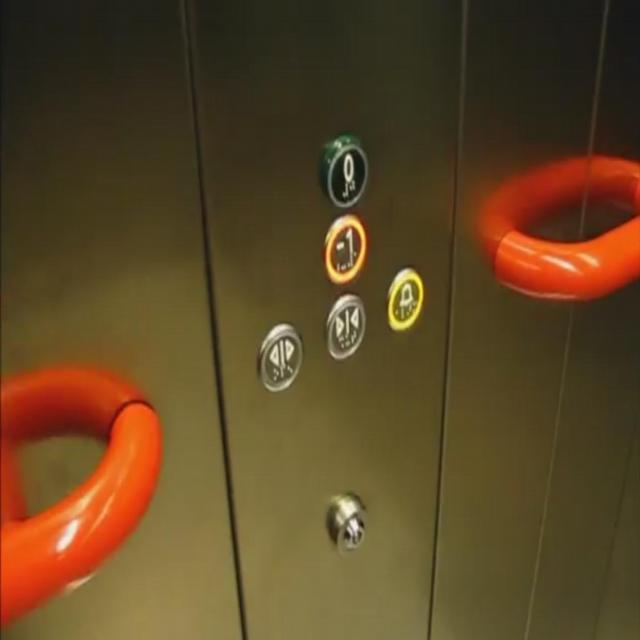-1: (322, 213, 367, 281)
0: (320, 133, 370, 207)
alarm: (384, 265, 424, 337)
close: (323, 293, 365, 359)
keyhole: (330, 494, 370, 556)
open: (255, 318, 306, 395)
